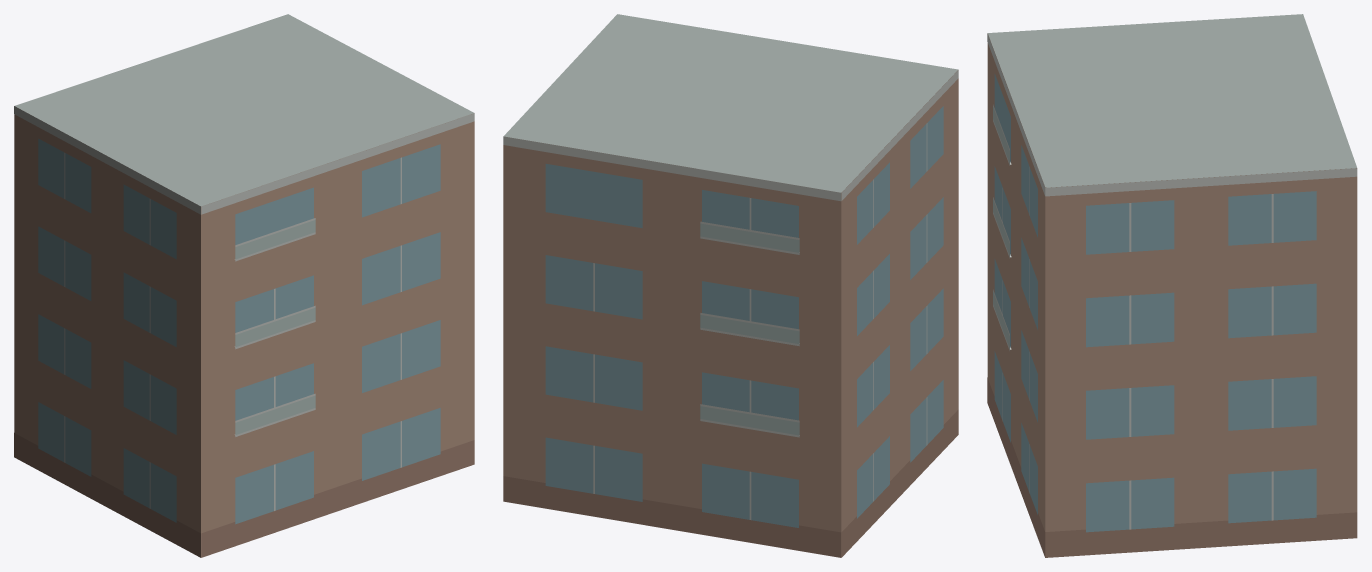
Rendered from survey-upis-32999622.glb.
3 renders of one model, left to right at view 1: azimuth 30°, elevation 25°; view 2: azimuth 150°, elevation 25°; view 3: azimuth 270°, elevation 25°, orthographic. The views are drawn at different scales.
Parts seen in each view (by area): view 1: survey-upis-32999622.tmp; view 2: survey-upis-32999622.tmp; view 3: survey-upis-32999622.tmp.
Boxes of the visible parts, left/top/right/bottom form: survey-upis-32999622.tmp: left=14, top=14, right=474, bottom=557; survey-upis-32999622.tmp: left=503, top=14, right=958, bottom=557; survey-upis-32999622.tmp: left=987, top=14, right=1357, bottom=557.
Bounding box in the file's own units: 10.48 × 10.4 × 9.43.
